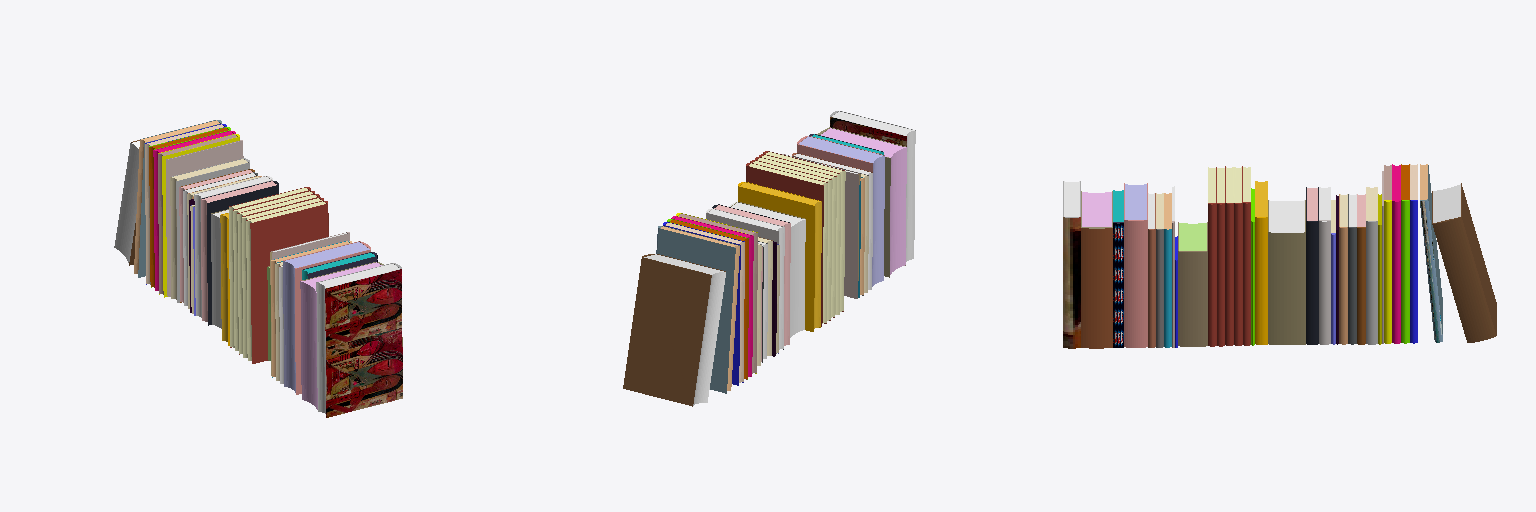
3 views of the same model, side by side, from view 1: azimuth 30°, elevation 25°; view 2: azimuth 150°, elevation 25°; view 3: azimuth 270°, elevation 25° (orthographic).
Parts seen in each view (by area): view 1: Mesh1_Group2_Group1_Model.001; view 2: Mesh1_Group2_Group1_Model.001; view 3: Mesh1_Group2_Group1_Model.001.
Part boxes in pixels (bbox=[...]): Mesh1_Group2_Group1_Model.001: bbox=[114, 120, 402, 417]; Mesh1_Group2_Group1_Model.001: bbox=[623, 111, 915, 406]; Mesh1_Group2_Group1_Model.001: bbox=[1063, 164, 1496, 348].
Size of the model in its own units: 0.5986 by 1 by 2.67.
Materials: 46 (3 with a texture image).